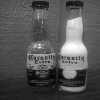beer: (25, 1, 57, 96)
